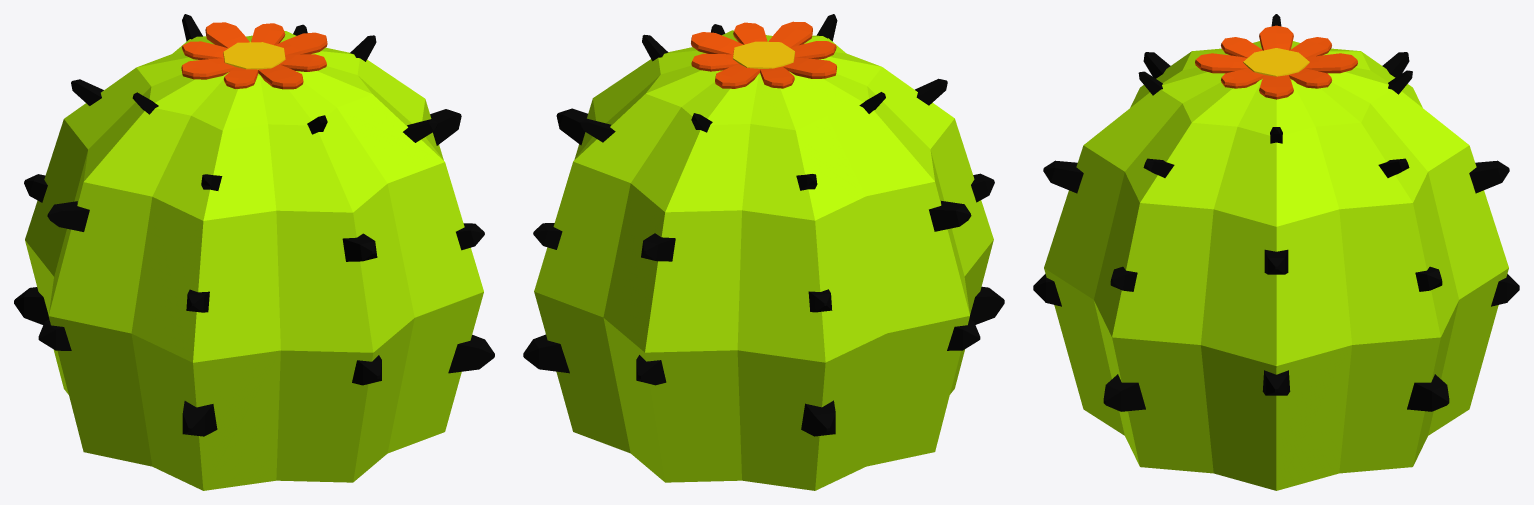
File: Cardon06_00Brazos_Flor_Anaranjada.fbx
3 renders of one model, left to right at view 1: azimuth 30°, elevation 25°; view 2: azimuth 150°, elevation 25°; view 3: azimuth 270°, elevation 25°, orthographic. The views are drawn at different scales.
Visible parts, largest first — view 1: Cactus, Espinas, Flor_Anaranjada; view 2: Cactus, Espinas, Flor_Anaranjada; view 3: Cactus, Espinas, Flor_Anaranjada.
Boxes of the visible parts, x1=… form: Cactus: x1=25, y1=31, x2=483, y2=490; Espinas: x1=14, y1=14, x2=494, y2=436; Flor_Anaranjada: x1=181, y1=22, x2=327, y2=89; Cactus: x1=534, y1=30, x2=993, y2=490; Espinas: x1=523, y1=14, x2=1004, y2=436; Flor_Anaranjada: x1=691, y1=21, x2=836, y2=88; Cactus: x1=1044, y1=41, x2=1508, y2=490; Espinas: x1=1033, y1=14, x2=1519, y2=411; Flor_Anaranjada: x1=1195, y1=25, x2=1357, y2=99.
Bounding box in the file's own units: 47.77 × 37.93 × 47.77.
